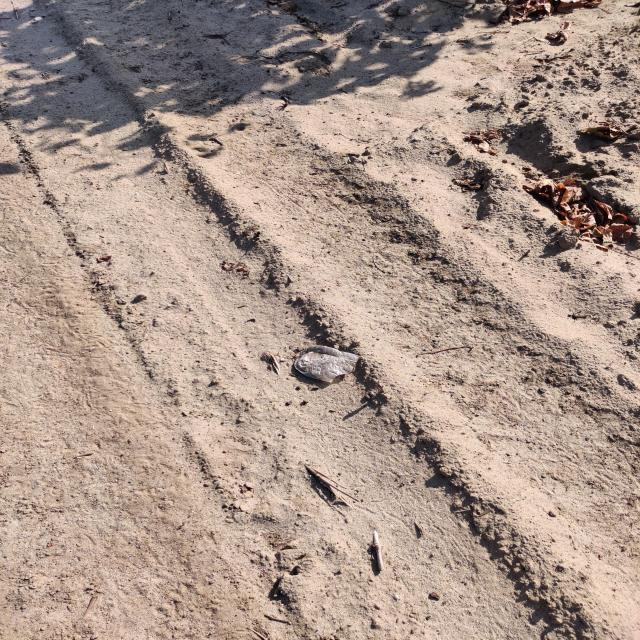litter: (293, 345, 361, 383)
